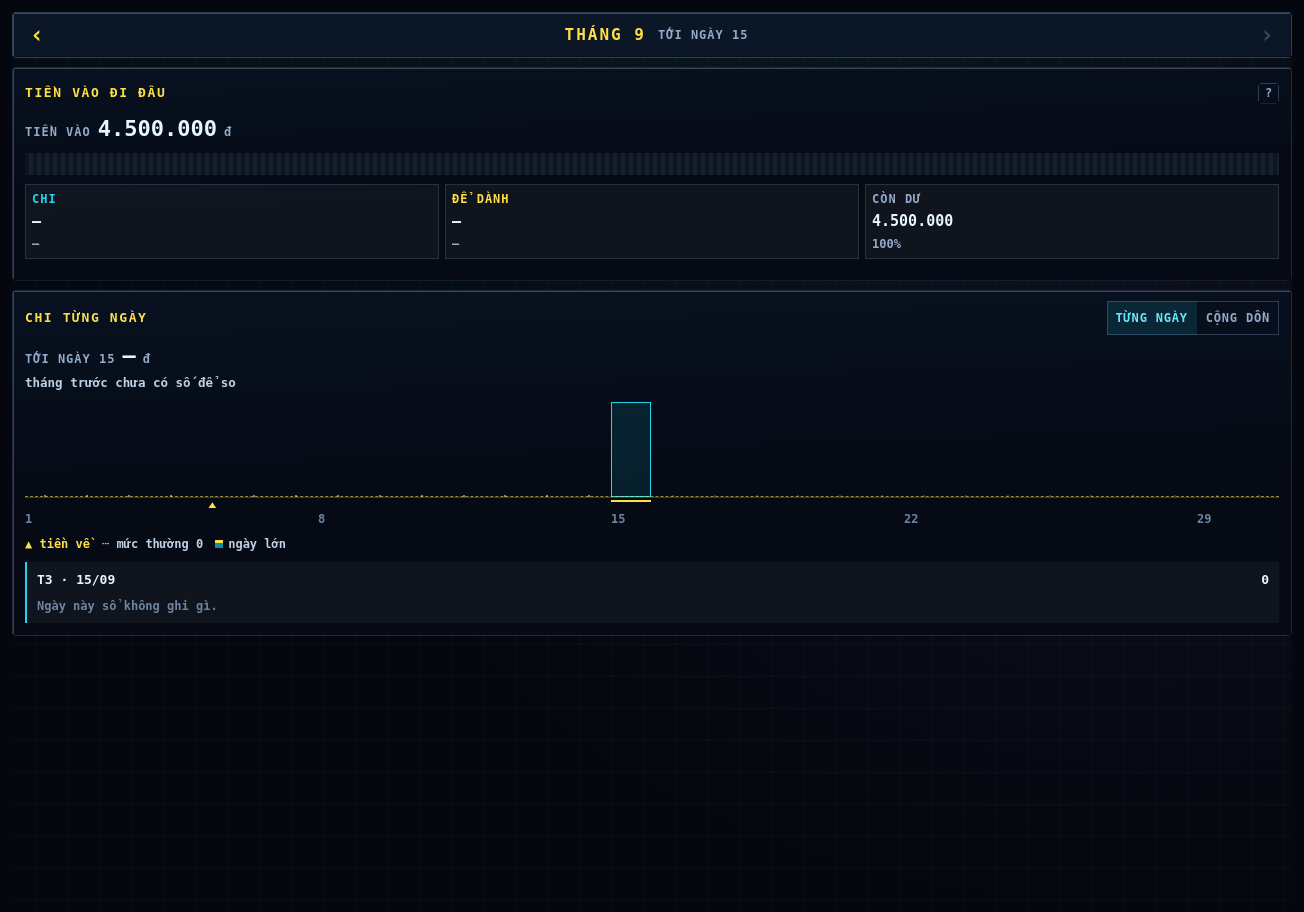
Test: §I — ⭐⭐⭐ TIỀN VÀO ĐI ĐÂU nói đúng số của SỔ và HŨ › ⭐⭐⭐ ‹ lùi về tháng ĐÃ KHÉP: ba thẻ nói trọn tháng ấy; mép trái là tháng sổ sớm nhất; › về lại tháng đang chạy
The width and height of the screenshot is (1304, 912).
Expected: the text with test id "bd-thang" reads "THÁNG 9", x1=565 y1=25 x2=646 y2=44
Expected: the button named "Xem tháng sau" is disabled, x1=1245 y1=13 x2=1289 y2=57
Click the button named "Xem tháng trước" at (37, 35), box x1=15 y1=13 x2=59 y2=57
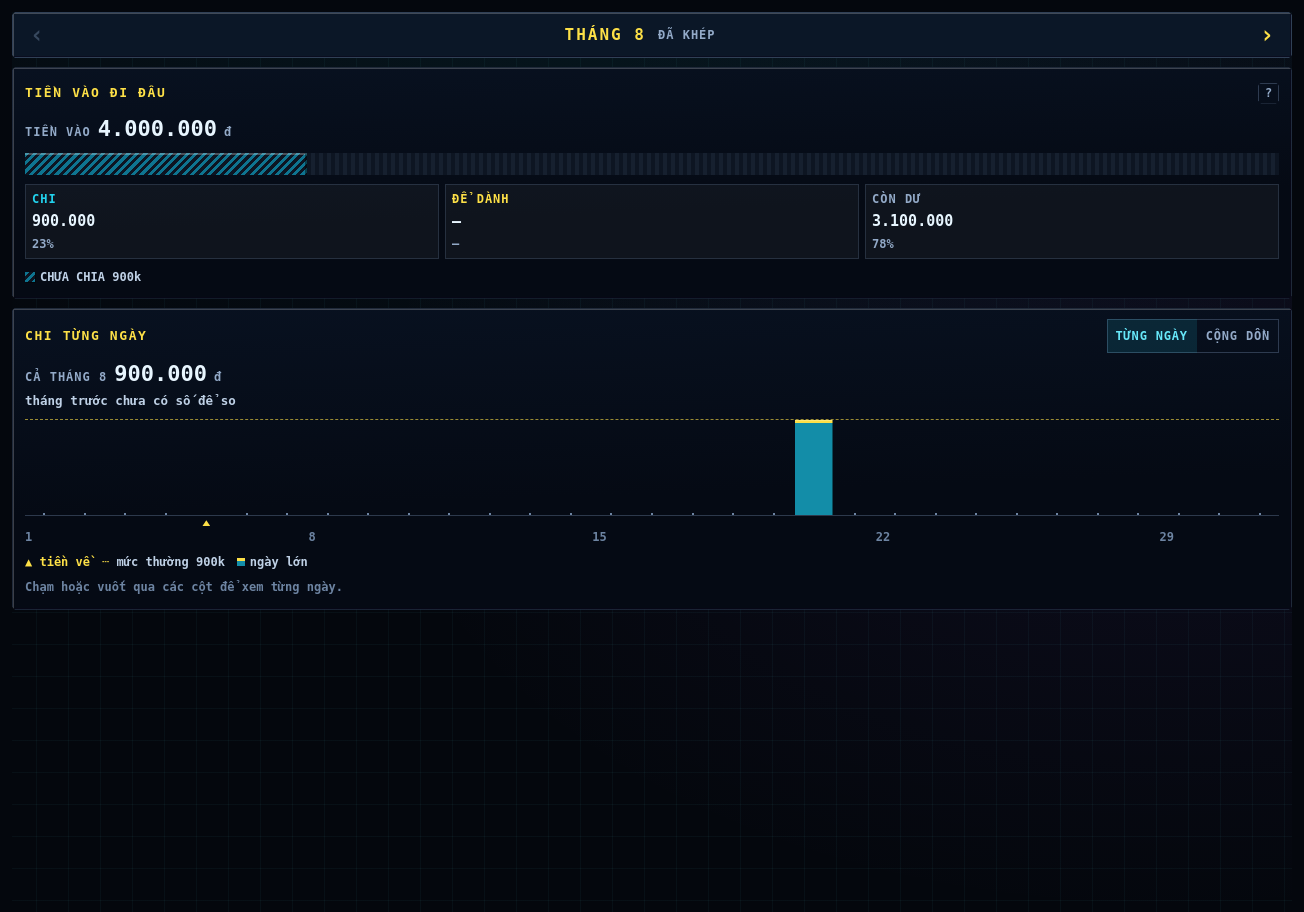
Result: the text with test id "bd-thang" reads "THÁNG 8" at x1=565 y1=25 x2=646 y2=44
Result: the text "ĐÃ KHÉP" is shown at x1=658 y1=28 x2=716 y2=42
Result: the text with test id "dd-vao" reads "4.000.000" at x1=98 y1=116 x2=217 y2=141
Click the button named "Xem tháng sau" at (1267, 35), box x1=1245 y1=13 x2=1289 y2=57
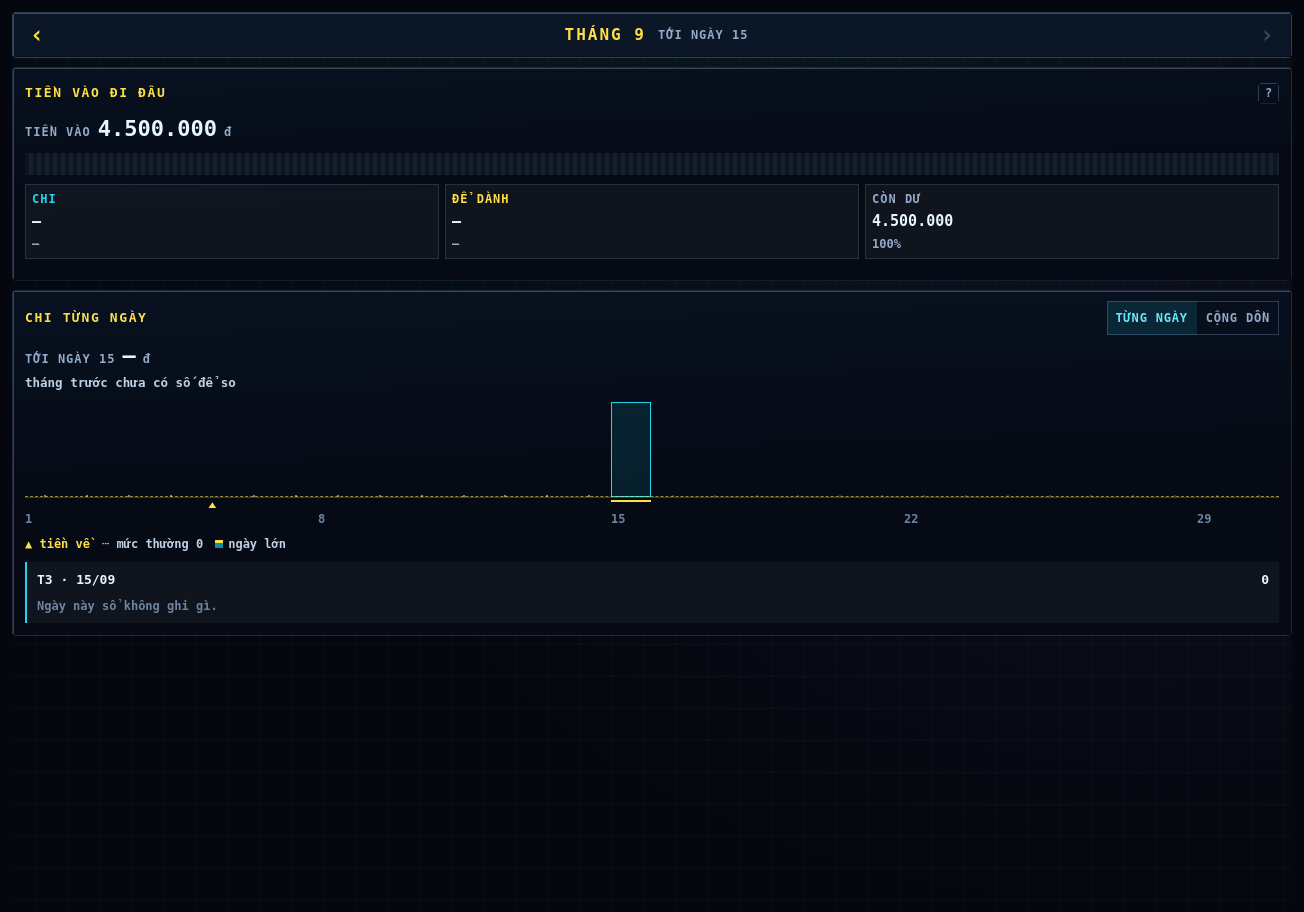
Result: the text with test id "bd-thang" reads "THÁNG 9" at x1=565 y1=25 x2=646 y2=44
